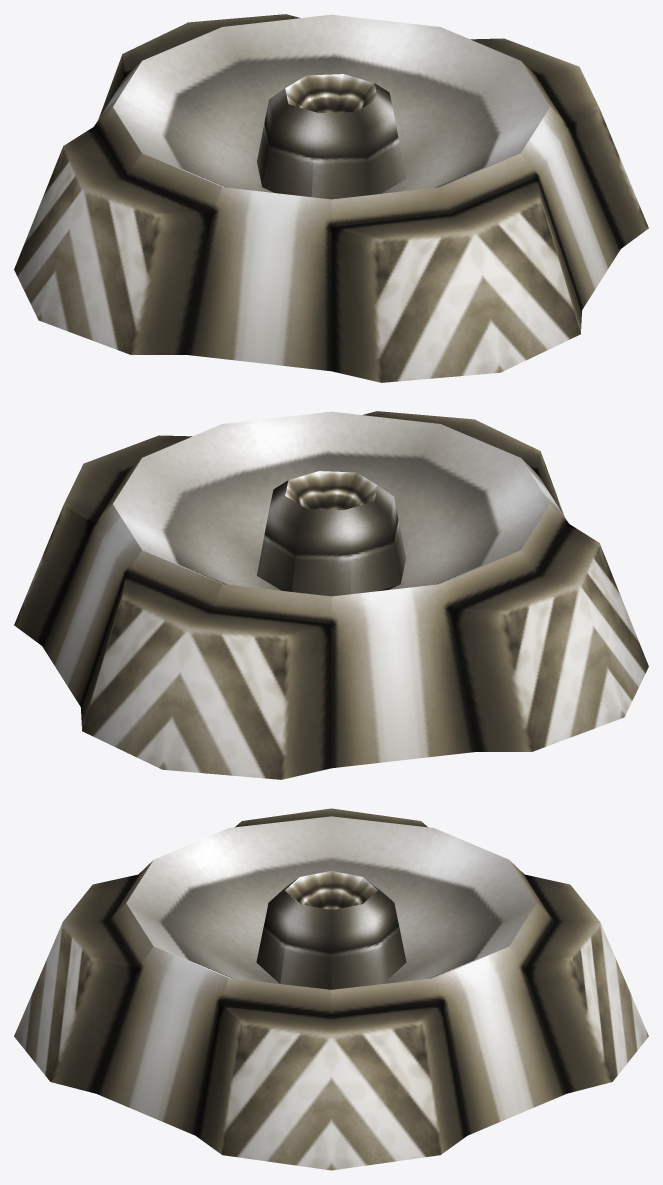
The model's file is Turret-02.FBX.
3 renders of one model, top to bottom at view 1: azimuth 30°, elevation 25°; view 2: azimuth 150°, elevation 25°; view 3: azimuth 270°, elevation 25°, orthographic. The views are drawn at different scales.
Parts seen in each view (by area): view 1: turret1, turret1gun; view 2: turret1, turret1gun; view 3: turret1, turret1gun.
Boxes of the visible parts, x1=… form: turret1: x1=14, y1=14, x2=648, y2=382; turret1gun: x1=257, y1=74, x2=405, y2=199; turret1: x1=14, y1=411, x2=648, y2=779; turret1gun: x1=257, y1=471, x2=405, y2=596; turret1: x1=14, y1=808, x2=648, y2=1170; turret1gun: x1=256, y1=871, x2=406, y2=989.
Size of the model in its own units: 184 by 46.57 by 184.
